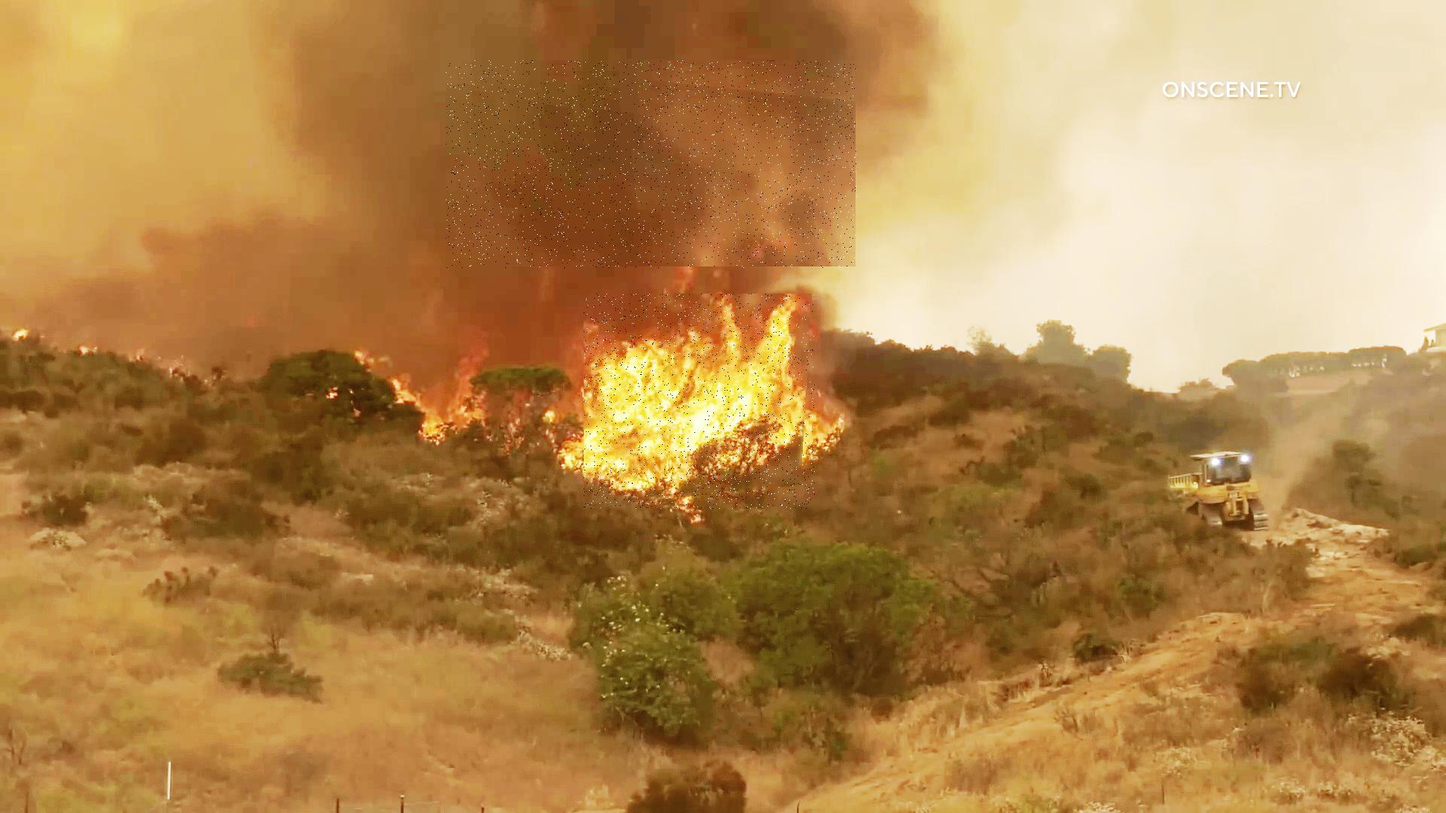fire: (584, 294, 815, 509)
smoke: (447, 61, 858, 268)
